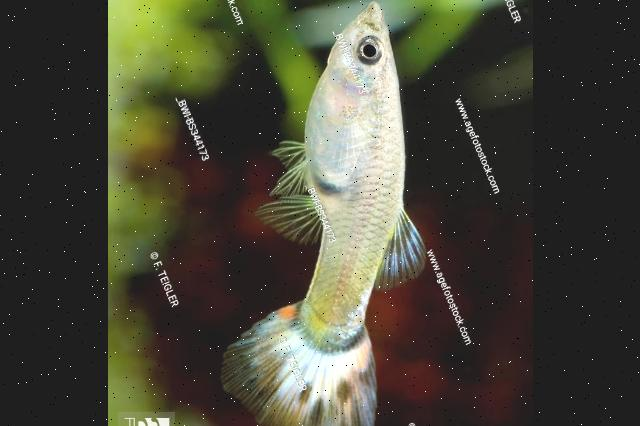Mulut: (342, 0, 396, 49)
Sirip Anal: (248, 192, 334, 250)
Sirip Dada: (296, 93, 388, 204)
Sirip Perut: (258, 130, 318, 202)
Sirip Punggung: (209, 296, 385, 426), (360, 190, 436, 296)
